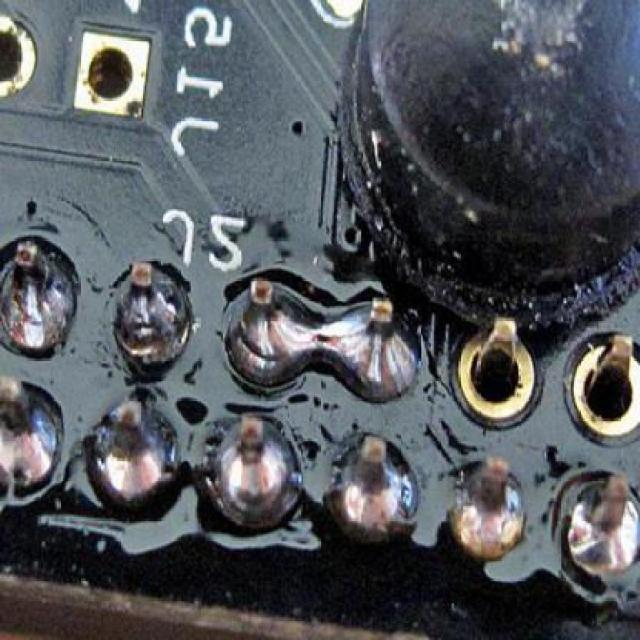Soldering shorted: (224, 268, 426, 394)
